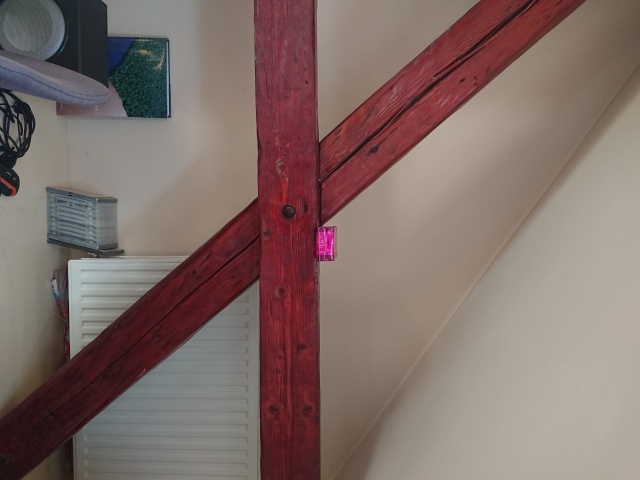Barcaffe Classic Original 225g: (314, 225, 339, 263)
